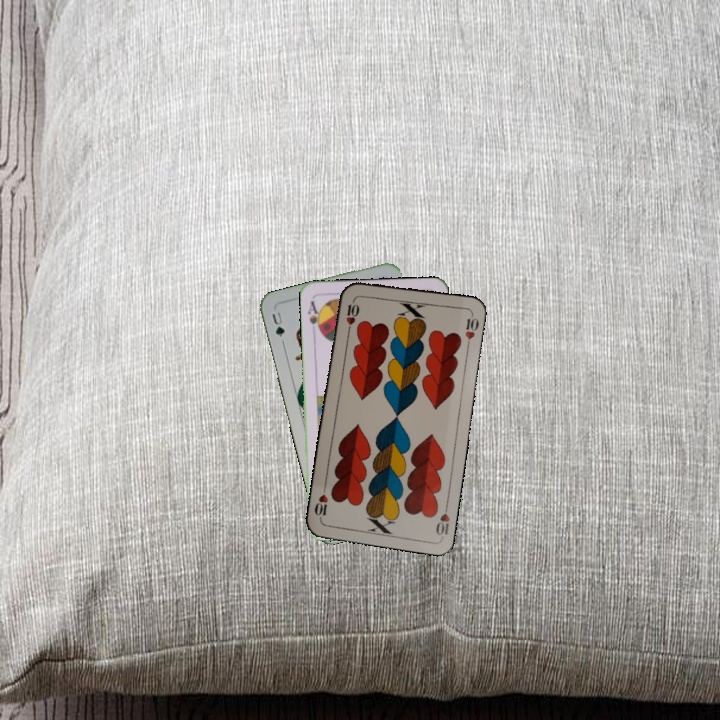GU: (268, 308, 287, 346)
H10: (432, 499, 452, 539), (342, 295, 361, 335)
SA: (304, 297, 324, 336)
